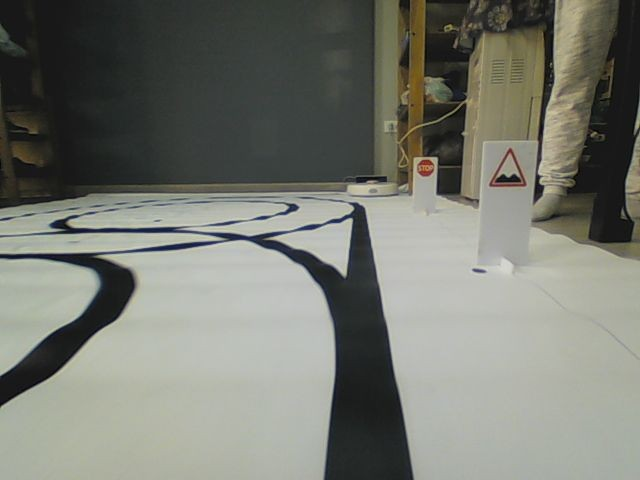Stop: (416, 158, 437, 178)
